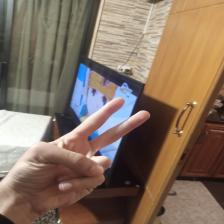two: (26, 98, 151, 203)
